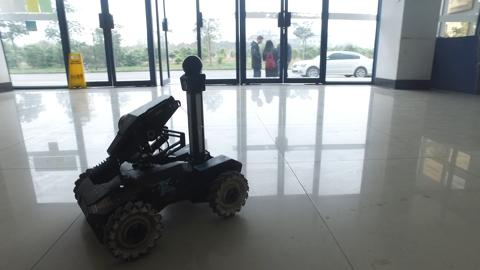chariot: (68, 50, 266, 263)
